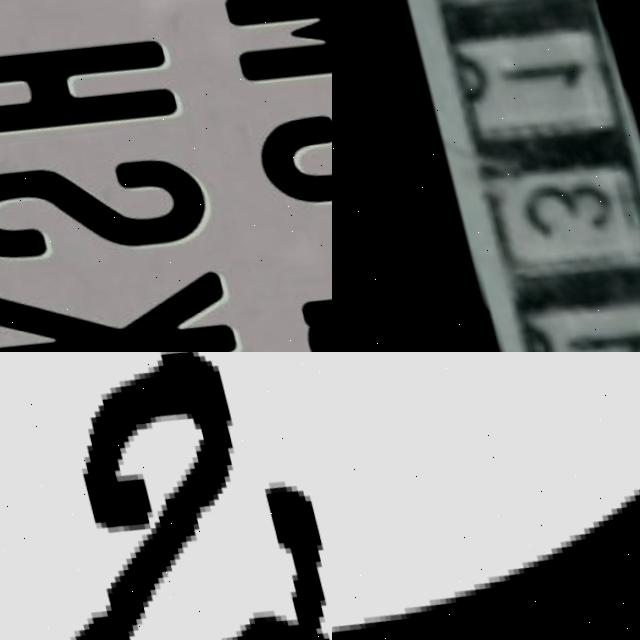1: (490, 19, 594, 109), (553, 300, 640, 352)
3: (517, 158, 625, 248)
7: (332, 358, 640, 640)
C: (248, 60, 332, 218)
H: (0, 4, 181, 159)
K: (0, 238, 241, 352)
M: (219, 0, 332, 97)
S: (0, 125, 217, 286)
